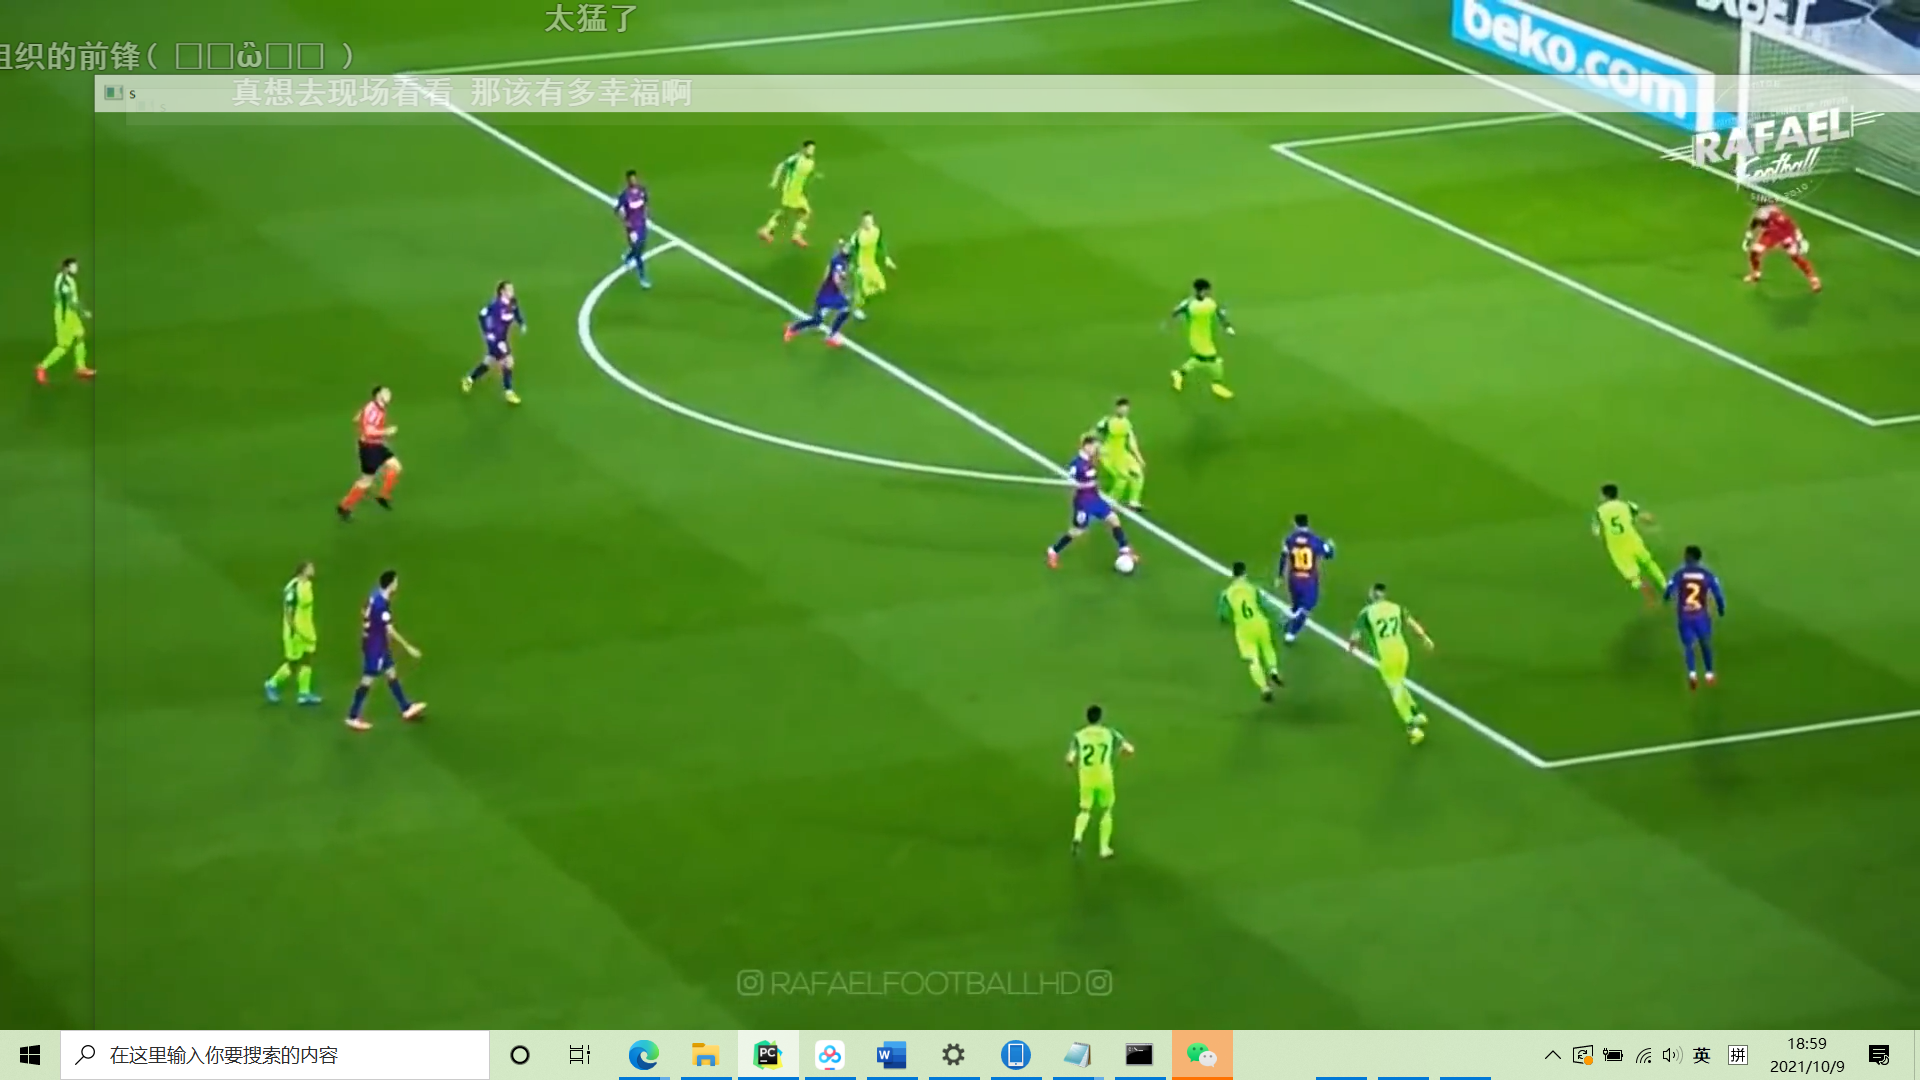ft: (1113, 553, 1135, 576)
